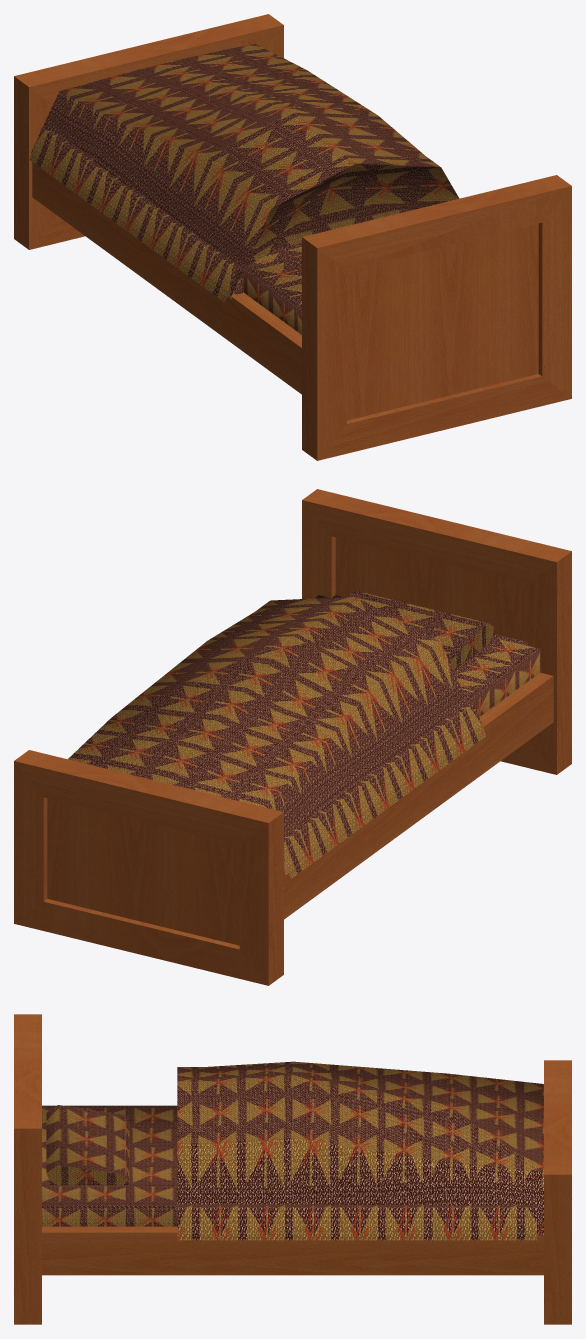
File: bed.gltf
3 views of the same model, one above another, from view 1: azimuth 30°, elevation 25°; view 2: azimuth 150°, elevation 25°; view 3: azimuth 270°, elevation 25° (orthographic). The views are drawn at different scales.
Parts seen in each view (by area): view 1: HeadBoard, BlanketOne, FootBoard, Frame, BlanketZero, Mattress; view 2: BlanketOne, FootBoard, HeadBoard, Frame, BlanketZero, Mattress, Pillow; view 3: BlanketOne, Frame, BlanketZero, Mattress, HeadBoard, FootBoard, Pillow.
Boxes of the visible parts, <box> form: HeadBoard: <box>302,175,571,460</box>; BlanketOne: <box>31,43,459,298</box>; FootBoard: <box>14,14,283,249</box>; Frame: <box>32,162,301,394</box>; BlanketZero: <box>29,125,301,302</box>; Mattress: <box>242,254,301,334</box>; BlanketOne: <box>68,596,467,876</box>; FootBoard: <box>14,750,283,985</box>; HeadBoard: <box>302,489,571,774</box>; Frame: <box>284,672,553,919</box>; BlanketZero: <box>284,702,486,878</box>; Mattress: <box>314,595,540,716</box>; Pillow: <box>347,590,493,669</box>; BlanketOne: <box>177,1061,543,1235</box>; Frame: <box>42,1226,543,1275</box>; BlanketZero: <box>177,1204,536,1240</box>; Mattress: <box>42,1105,177,1226</box>; HeadBoard: <box>14,1014,41,1324</box>; FootBoard: <box>544,1060,571,1324</box>; Pillow: <box>46,1105,129,1185</box>.
Size of the model in its own units: 1.5 by 1.16 by 3.01.
Materials: 5 (5 with a texture image).
